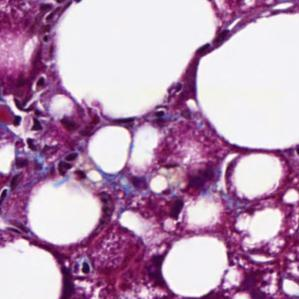inflammation: (10, 96, 46, 181), (54, 148, 95, 183)
